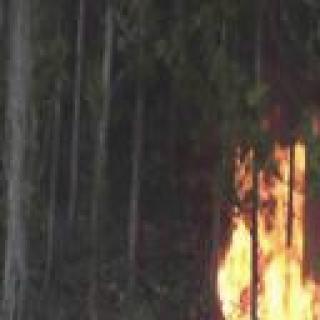fire: (174, 141, 320, 320)
